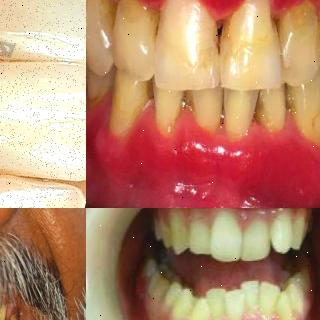Gum Swelling: (86, 88, 320, 172)
calculus: (265, 9, 297, 47), (172, 88, 198, 126), (139, 76, 161, 118), (250, 96, 273, 131), (282, 84, 300, 122)
cavities: (242, 0, 276, 8)
maligned: (240, 220, 271, 262), (187, 222, 213, 259), (258, 280, 280, 320), (237, 277, 261, 313), (206, 283, 228, 320), (222, 288, 245, 320), (185, 297, 211, 320)
plaque: (209, 11, 246, 61), (141, 5, 173, 41)
stains: (86, 0, 116, 50), (0, 24, 16, 86), (86, 80, 106, 116)
